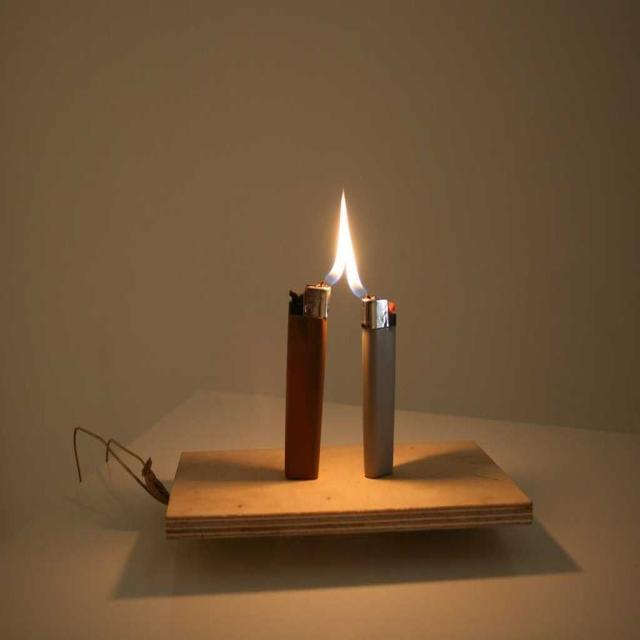Fire: (338, 210, 352, 284)
